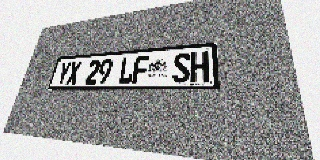2: (84, 59, 101, 84)
9: (96, 58, 113, 84)
F: (132, 56, 149, 84)
H: (190, 51, 209, 83)
L: (118, 57, 135, 84)
S: (172, 52, 190, 83)
X: (65, 61, 82, 85)
Y: (55, 62, 72, 85)
